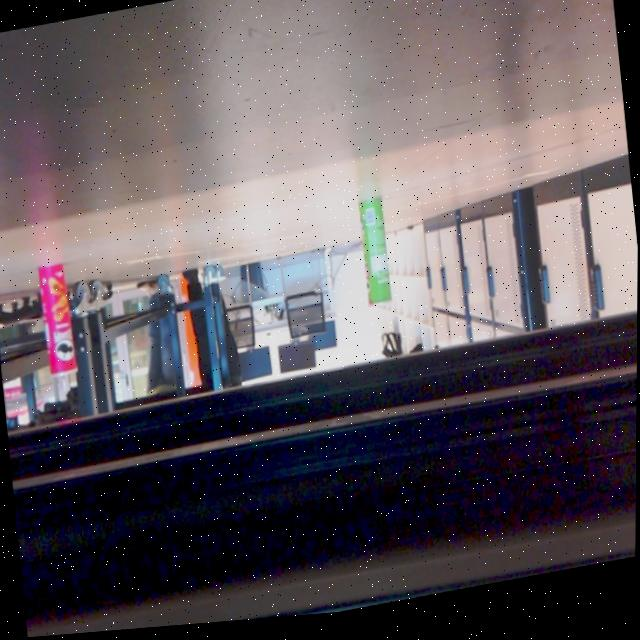greenpringles: (333, 189, 405, 325)
redpringles: (25, 246, 89, 402)
